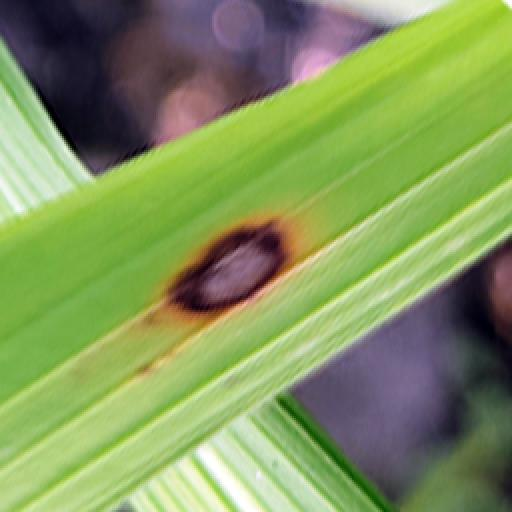Brown Spot: (158, 214, 304, 326)
